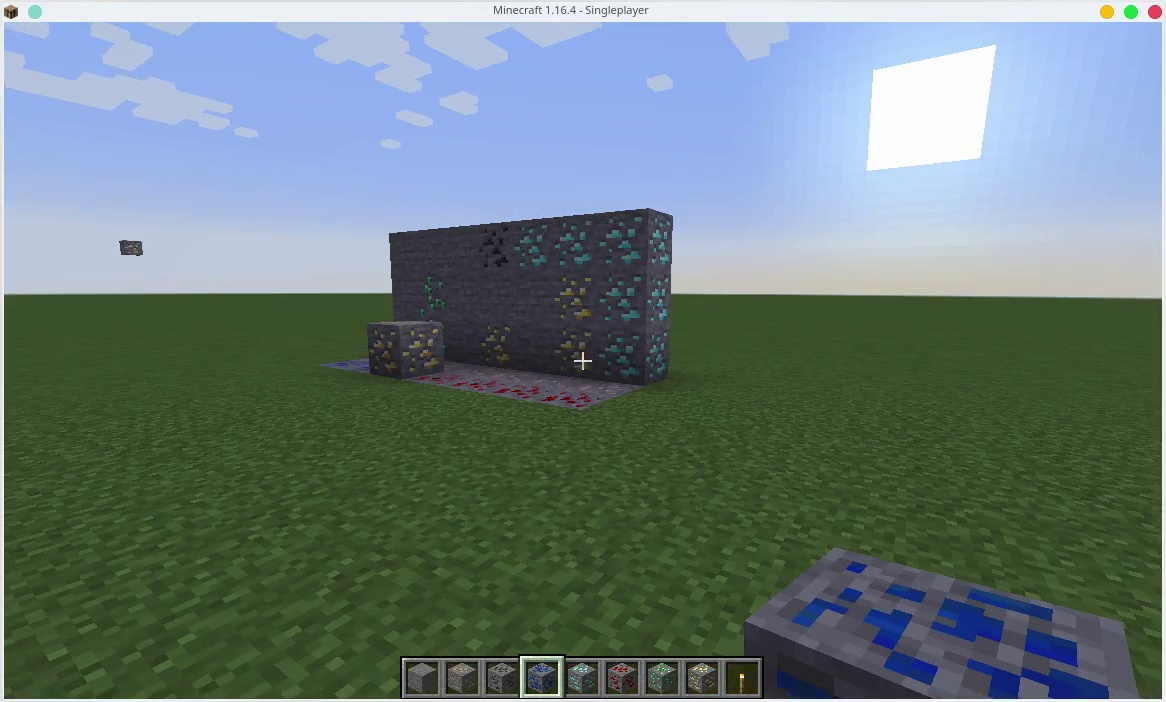gold: (372, 322, 442, 372), (550, 327, 604, 382), (547, 279, 593, 322), (469, 323, 514, 365), (686, 664, 718, 694)
